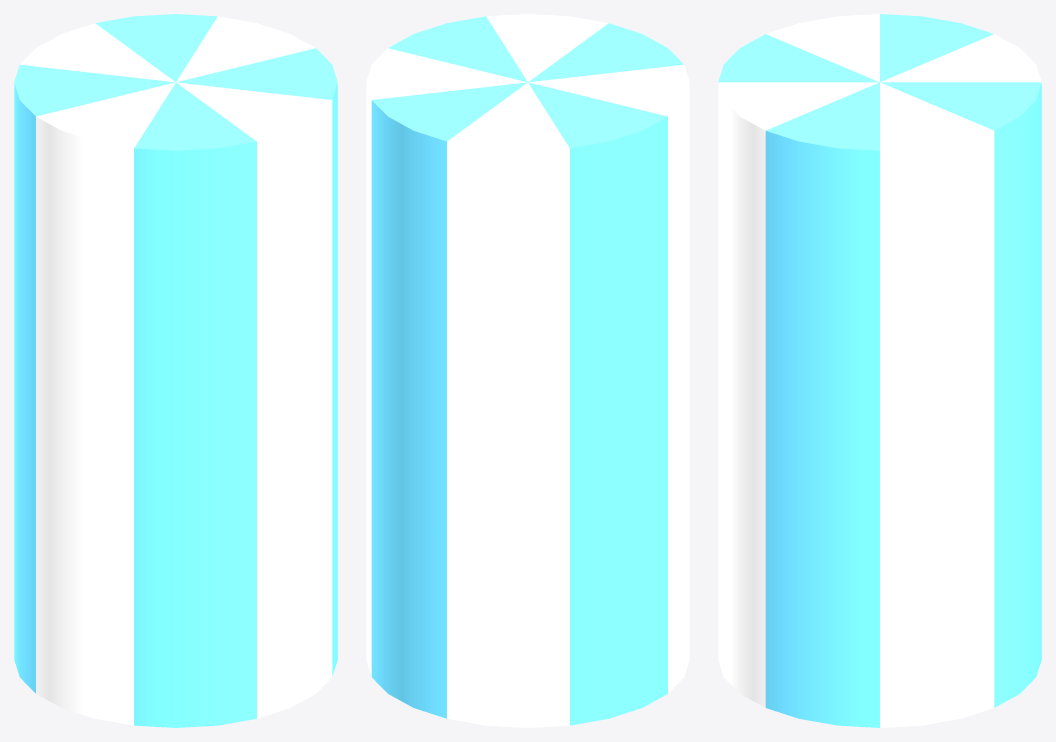
3 renders of one model, left to right at view 1: azimuth 30°, elevation 25°; view 2: azimuth 150°, elevation 25°; view 3: azimuth 270°, elevation 25°, orthographic.
Visible parts, largest first — view 1: model_6; view 2: model_6; view 3: model_6.
Boxes of the visible parts, box(x1,y1,x2,y2) form: model_6: box(14, 14, 337, 727); model_6: box(366, 14, 689, 727); model_6: box(718, 14, 1041, 727).
Bounding box in the file's own units: 0.1016 × 0.2 × 0.1016.
